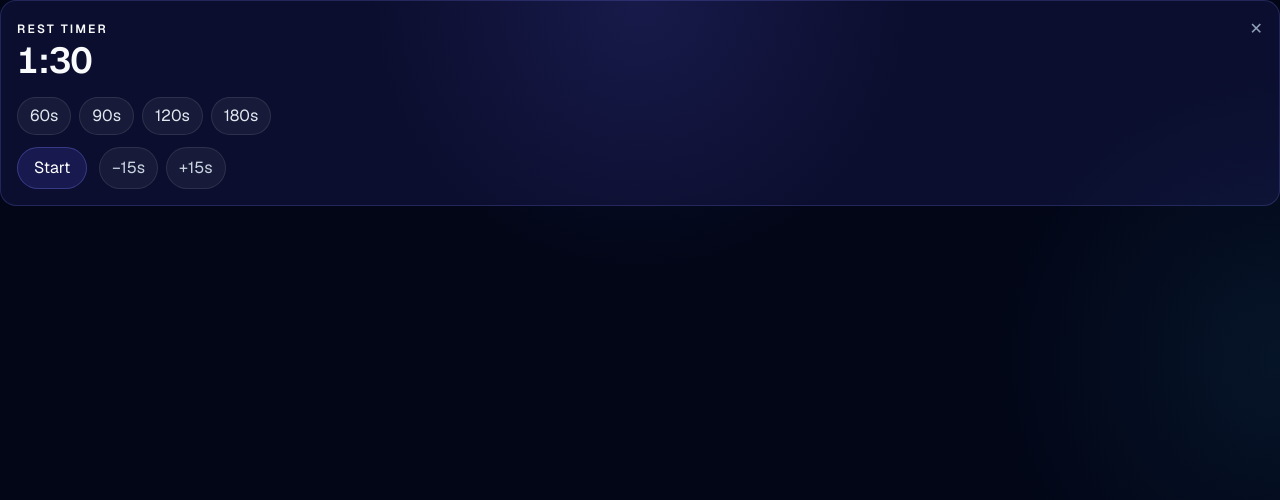
Test case: RestTimer › start / stop › shows Start button again after clicking Stop
The width and height of the screenshot is (1280, 500).
Click the button "Start" at [52, 168], box [17,147,87,189]
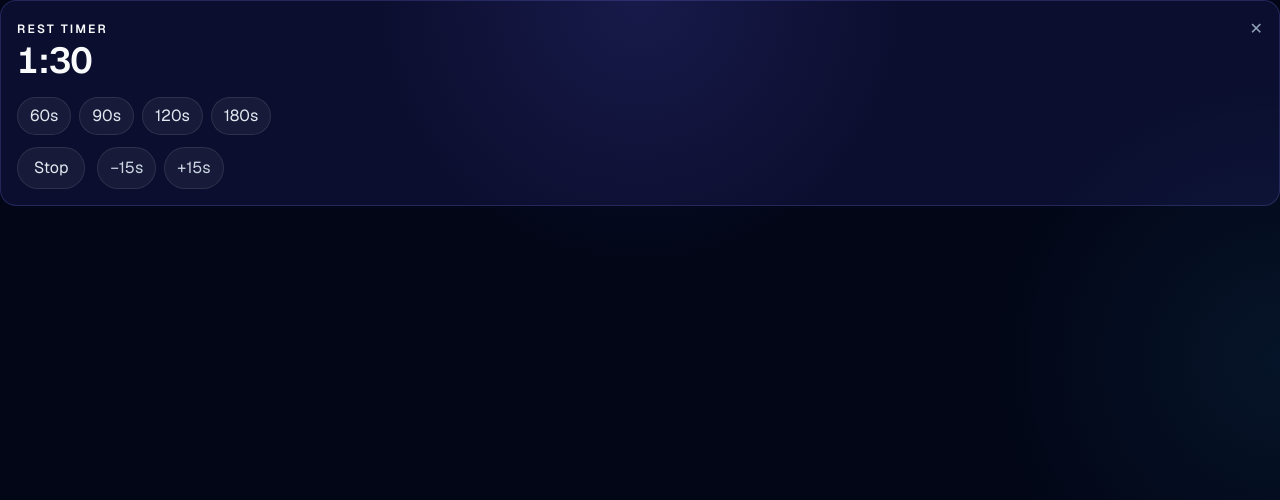
Click the button "Stop" at [51, 168], box [17,147,85,189]
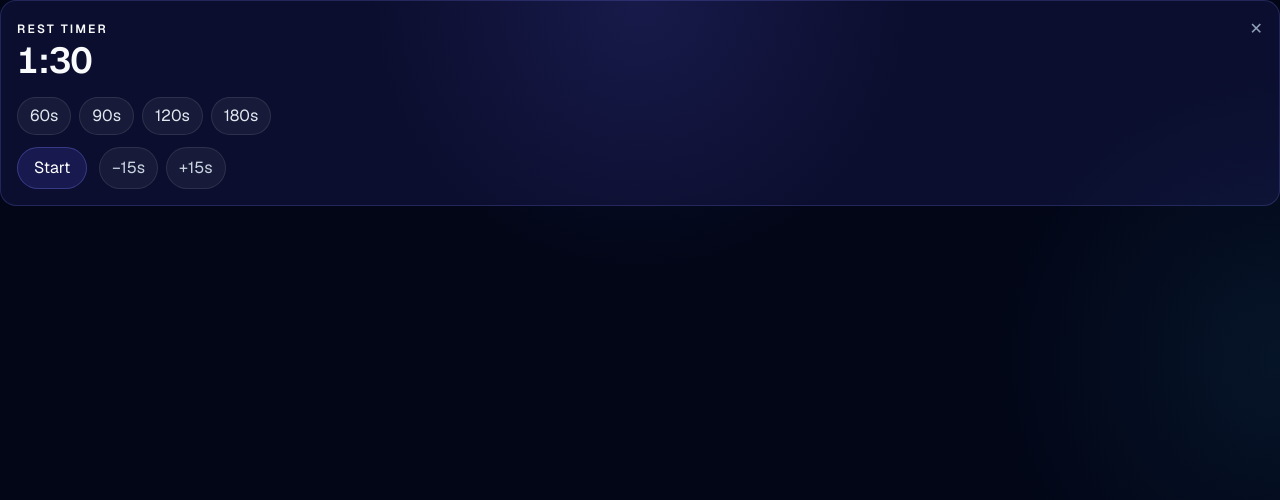
Expected: the button "Start" is shown, [17,147,87,189]
